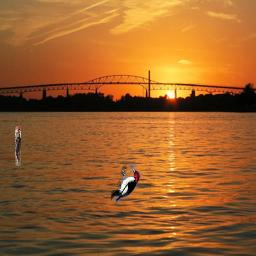Woodpecker: (110, 164, 143, 204), (15, 126, 21, 166)
